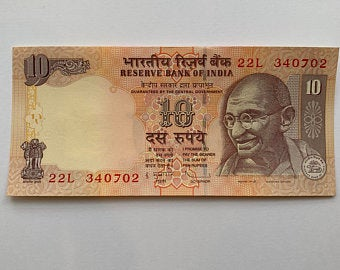ten_rupees_note: (11, 45, 337, 198)
